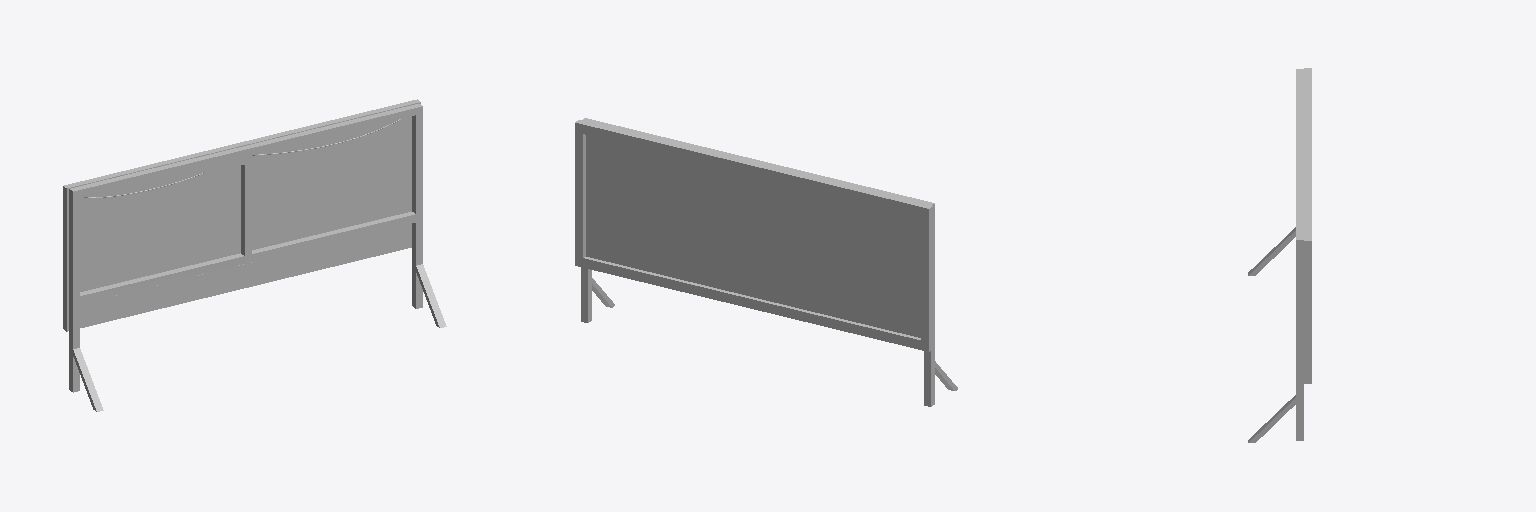
The model's file is stand.obj.
The picture shows the model from 3 angles: view 1: azimuth 30°, elevation 25°; view 2: azimuth 150°, elevation 25°; view 3: azimuth 270°, elevation 25°; orthographic projection.
Parts seen in each view (by area): view 1: Cube.002_Cube; view 2: Cube.002_Cube; view 3: Cube.002_Cube.
Boxes of the visible parts, box(x1,y1,x2,y2) form: Cube.002_Cube: box(63, 99, 446, 411); Cube.002_Cube: box(575, 118, 957, 406); Cube.002_Cube: box(1248, 68, 1311, 442).
Size of the model in its own units: 12.15 by 6.67 by 1.88.